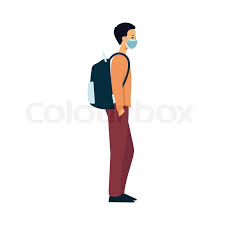masked: (110, 20, 143, 50)
